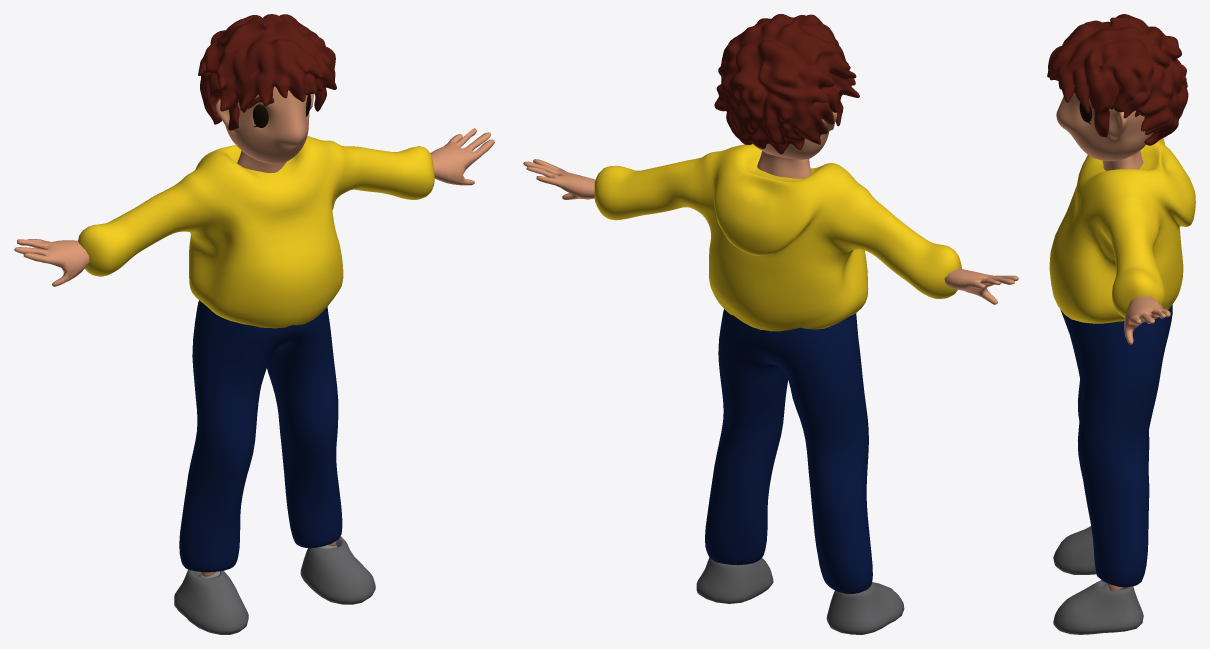
File: ADRIDESCARGA ESTO 2DEF LALALALA.fbx
3 views of the same model, side by side, from view 1: azimuth 30°, elevation 25°; view 2: azimuth 150°, elevation 25°; view 3: azimuth 270°, elevation 25° (orthographic). The views are drawn at different scales.
Parts seen in each view (by area): view 1: SUDADERA_ALEX_LOW_TPOSE, PANTALON_LOW_ALEX, PELO_ALEX_LOW, ZAPATILLAS_ALEX_LOW, CABEZA_LOW_ALEX, BRAZOS_TPOSE_ALEX_LOW; view 2: SUDADERA_ALEX_LOW_TPOSE, PANTALON_LOW_ALEX, PELO_ALEX_LOW, ZAPATILLAS_ALEX_LOW, BRAZOS_TPOSE_ALEX_LOW, CUELLO_ALEX_LOW, CABEZA_LOW_ALEX; view 3: SUDADERA_ALEX_LOW_TPOSE, PANTALON_LOW_ALEX, PELO_ALEX_LOW, ZAPATILLAS_ALEX_LOW, CABEZA_LOW_ALEX, BRAZOS_TPOSE_ALEX_LOW, CUELLO_ALEX_LOW.
Part boxes in pixels (left/top/right/bottom): SUDADERA_ALEX_LOW_TPOSE: left=78, top=136, right=434, bottom=328; PANTALON_LOW_ALEX: left=179, top=300, right=342, bottom=572; PELO_ALEX_LOW: left=198, top=14, right=336, bottom=130; ZAPATILLAS_ALEX_LOW: left=174, top=536, right=375, bottom=634; CABEZA_LOW_ALEX: left=216, top=86, right=314, bottom=163; BRAZOS_TPOSE_ALEX_LOW: left=14, top=128, right=494, bottom=286; SUDADERA_ALEX_LOW_TPOSE: left=594, top=144, right=961, bottom=331; PANTALON_LOW_ALEX: left=705, top=309, right=872, bottom=593; PELO_ALEX_LOW: left=714, top=14, right=859, bottom=154; ZAPATILLAS_ALEX_LOW: left=696, top=558, right=904, bottom=634; BRAZOS_TPOSE_ALEX_LOW: left=523, top=159, right=1018, bottom=304; CUELLO_ALEX_LOW: left=757, top=151, right=811, bottom=178; CABEZA_LOW_ALEX: left=756, top=111, right=837, bottom=159; SUDADERA_ALEX_LOW_TPOSE: left=1049, top=138, right=1195, bottom=323; PANTALON_LOW_ALEX: left=1060, top=305, right=1172, bottom=587; PELO_ALEX_LOW: left=1047, top=14, right=1188, bottom=145; ZAPATILLAS_ALEX_LOW: left=1053, top=526, right=1143, bottom=634; CABEZA_LOW_ALEX: left=1056, top=85, right=1153, bottom=161; BRAZOS_TPOSE_ALEX_LOW: left=1124, top=296, right=1170, bottom=344; CUELLO_ALEX_LOW: left=1102, top=150, right=1143, bottom=170.
Size of the model in its own units: 195 by 226 by 52.7.
